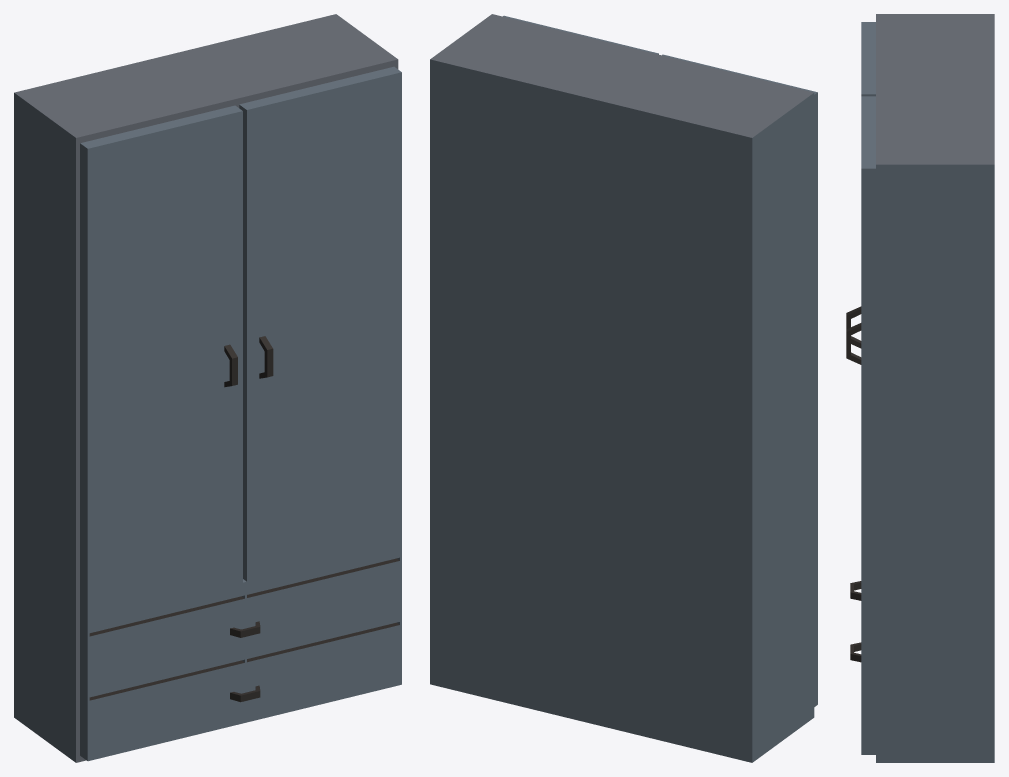
The model's file is WardRobe_2B.fbx.
3 views of the same model, side by side, from view 1: azimuth 30°, elevation 25°; view 2: azimuth 150°, elevation 25°; view 3: azimuth 270°, elevation 25° (orthographic). The views are drawn at different scales.
Parts seen in each view (by area): view 1: polySurface2082; view 2: polySurface2082; view 3: polySurface2082.
Part boxes in pixels (<box>): polySurface2082: <box>14,14,401,762</box>; polySurface2082: <box>430,14,817,762</box>; polySurface2082: <box>846,14,994,762</box>.
Size of the model in its own units: 1.83 by 3.4 by 0.7641.
1 material, 1 textured.
